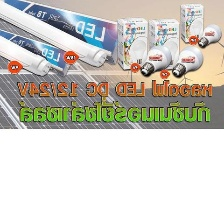carton: (0, 0, 128, 67), (0, 22, 74, 80), (115, 14, 150, 72), (147, 16, 182, 72), (179, 1, 206, 46)
light_bulb: (0, 0, 109, 72), (0, 29, 55, 77), (140, 42, 175, 77), (170, 43, 205, 78), (197, 22, 222, 48)
